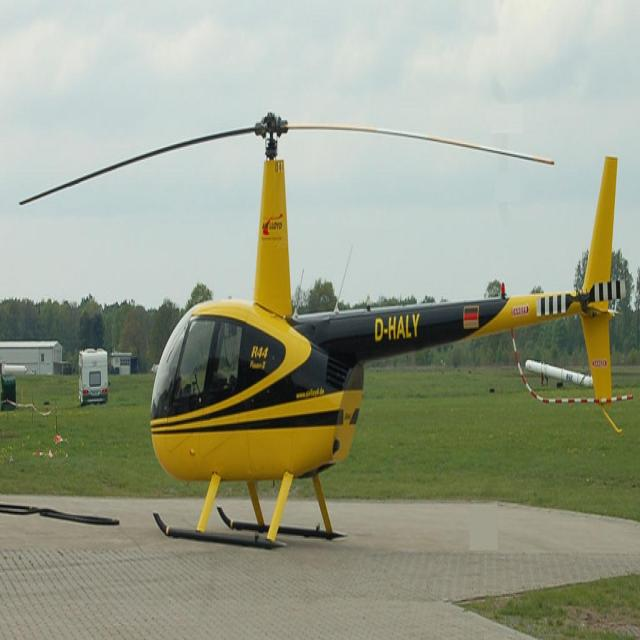CIV_HELO: (148, 110, 617, 554)
